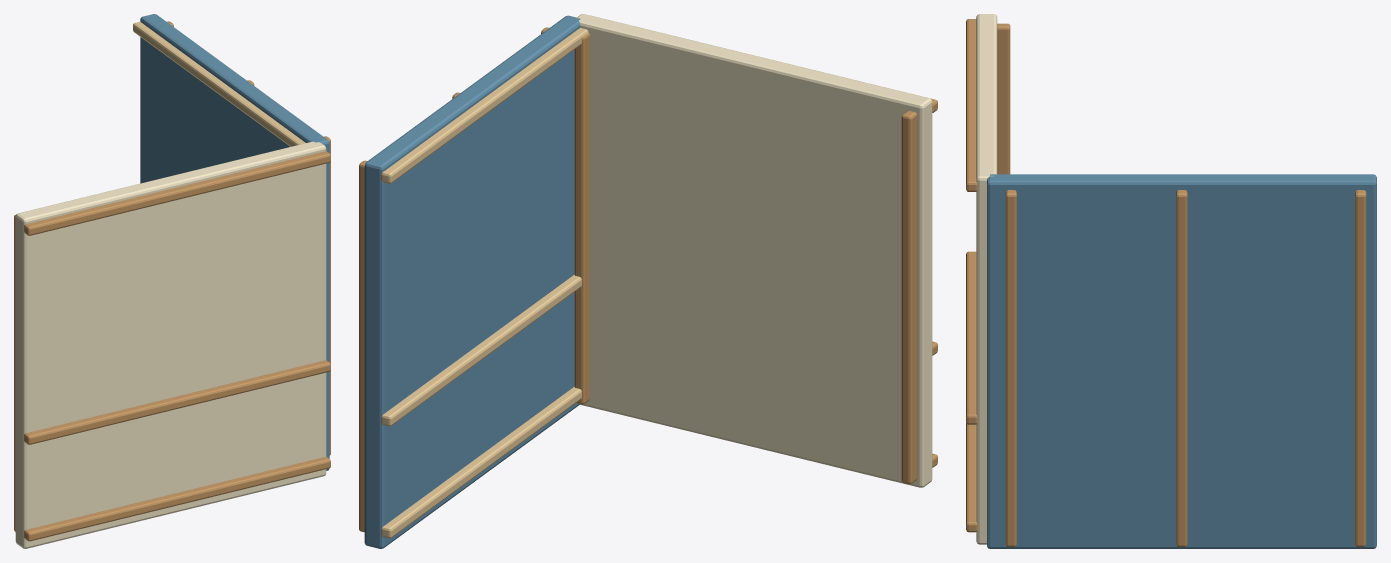
Rendered from S024_folding_room_corner.glb.
The picture shows the model from 3 angles, left to right: view 1: azimuth 30°, elevation 25°; view 2: azimuth 150°, elevation 25°; view 3: azimuth 270°, elevation 25°; orthographic projection. The views are drawn at different scales.
Parts seen in each view (by area): view 1: left_wall, return_wall, left_wall_trim, left_wall_trim.001, left_wall_trim.002, return_wall_trim.002, left_wall_stud, return_wall_stud; view 2: left_wall, return_wall, left_wall_stud, left_wall_stud.001, return_wall_trim.002, return_wall_trim.001, return_wall_trim, return_wall_stud.002; view 3: return_wall, left_wall, return_wall_stud, return_wall_stud.001, return_wall_stud.002, left_wall_stud, left_wall_trim.001, left_wall_trim.002, left_wall_trim.
Part boxes in pixels (x1=…): left_wall: x1=15, y1=141, x2=326, y2=548; return_wall: x1=140, y1=14, x2=329, y2=470; left_wall_trim: x1=24, y1=457, x2=330, y2=541; left_wall_trim.001: x1=24, y1=360, x2=330, y2=444; left_wall_trim.002: x1=24, y1=151, x2=330, y2=235; return_wall_trim.002: x1=133, y1=21, x2=305, y2=146; left_wall_stud: x1=14, y1=214, x2=15, y2=531; return_wall_stud: x1=324, y1=136, x2=330, y2=455; left_wall: x1=577, y1=14, x2=932, y2=487; return_wall: x1=364, y1=15, x2=580, y2=548; left_wall_stud: x1=901, y1=111, x2=917, y2=484; left_wall_stud.001: x1=574, y1=32, x2=589, y2=404; return_wall_trim.002: x1=381, y1=28, x2=588, y2=183; return_wall_trim.001: x1=381, y1=274, x2=581, y2=426; return_wall_trim: x1=381, y1=387, x2=581, y2=538; return_wall_stud.002: x1=359, y1=160, x2=367, y2=532; return_wall: x1=987, y1=174, x2=1376, y2=548; left_wall: x1=976, y1=14, x2=997, y2=544; return_wall_stud: x1=1005, y1=190, x2=1016, y2=546; return_wall_stud.001: x1=1176, y1=190, x2=1187, y2=546; return_wall_stud.002: x1=1355, y1=190, x2=1366, y2=546; left_wall_stud: x1=997, y1=23, x2=1010, y2=174; left_wall_trim.001: x1=966, y1=251, x2=977, y2=424; left_wall_trim.002: x1=966, y1=19, x2=977, y2=191; left_wall_trim: x1=966, y1=422, x2=977, y2=532.
Bounding box in the file's own units: 2.54 × 2.5 × 2.53.
